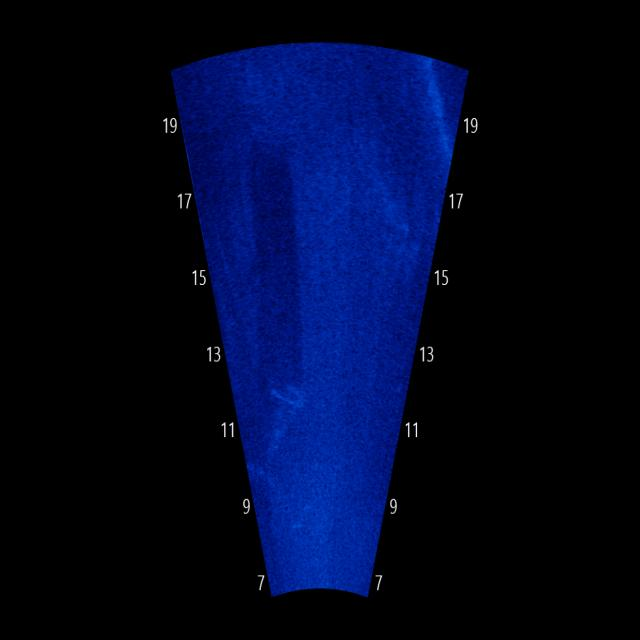triangle: (261, 374, 317, 458)
